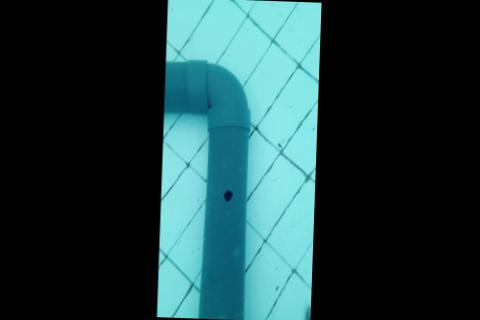kebocoran: (222, 188, 235, 203)
